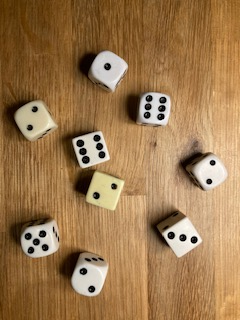five: (19, 218, 61, 258)
one: (87, 50, 129, 94)
six: (70, 129, 112, 170), (133, 91, 174, 128)
three: (155, 210, 203, 259)
two: (13, 99, 58, 144), (185, 152, 229, 193), (70, 252, 110, 297), (83, 170, 125, 212)
